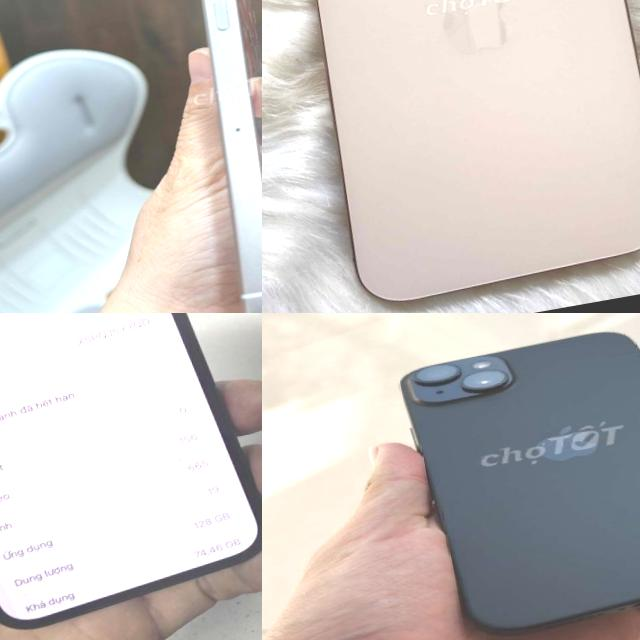gen_12_13: (0, 313, 262, 640)
gen_15: (348, 313, 640, 640), (113, 0, 262, 313)
gen_16: (314, 0, 640, 299)
